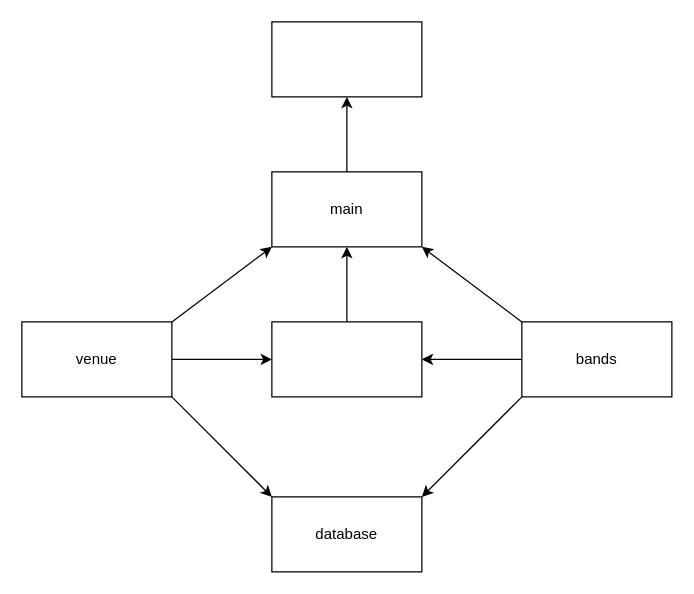
This 694x594 diagram has some shape labels left out. Here are the shapes that lost their labels. From the top down, the centre of each, then its label:
At pixel 346 59: "html".
At pixel 346 359: "upcoming".
